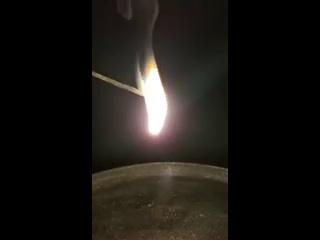Fire: (140, 54, 170, 136)
